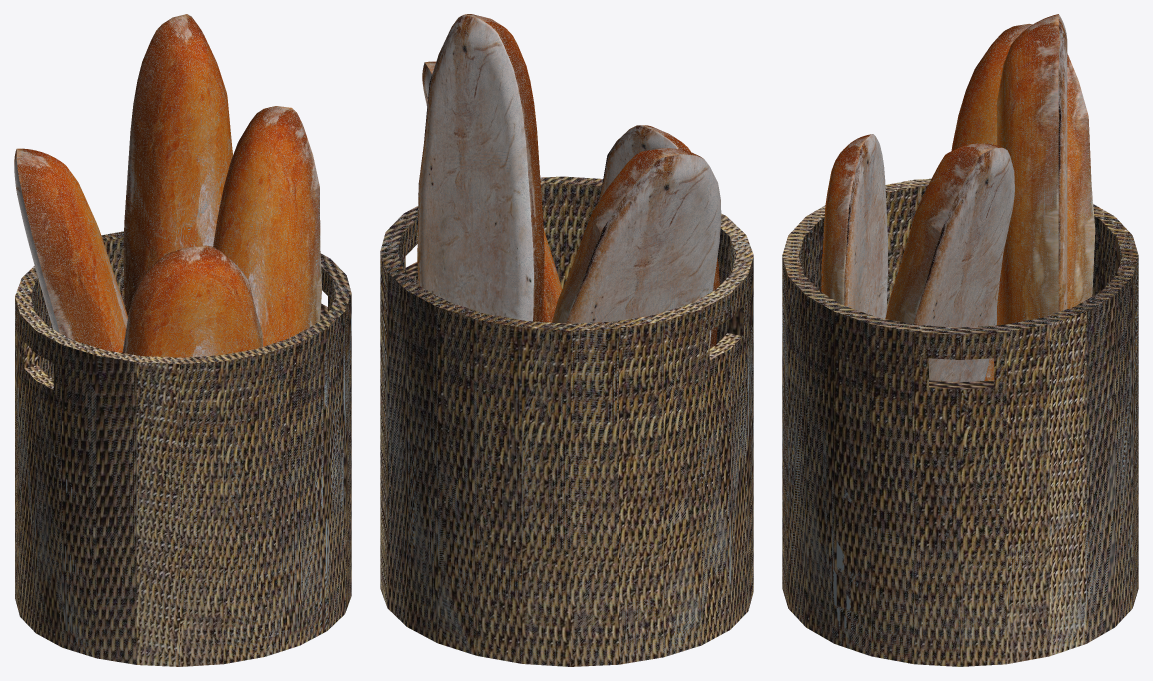
Rendered from bread.dae.
3 views of the same model, side by side, from view 1: azimuth 30°, elevation 25°; view 2: azimuth 150°, elevation 25°; view 3: azimuth 270°, elevation 25° (orthographic). The views are drawn at different scales.
Parts seen in each view (by area): view 1: Différence (×3), Bread_1 (×2), Bread (×3); view 2: Différence (×3), Bread_1 (×3), Bread (×3); view 3: Différence (×2), Bread_1 (×4), Bread (×3).
Part boxes in pixels (bbox=[...]): Différence (×3): bbox=[15, 231, 351, 666]; Bread_1 (×2): bbox=[122, 14, 262, 357]; Bread (×3): bbox=[14, 106, 321, 352]; Différence (×3): bbox=[380, 176, 753, 666]; Bread_1 (×3): bbox=[417, 14, 711, 347]; Bread (×3): bbox=[425, 61, 721, 323]; Différence (×2): bbox=[782, 178, 1138, 666]; Bread_1 (×4): bbox=[821, 14, 1067, 325]; Bread (×3): bbox=[885, 23, 1095, 382].
Bounding box in the file's own units: 9.07 × 8.66 × 15.84.
4 materials, 3 textured.
